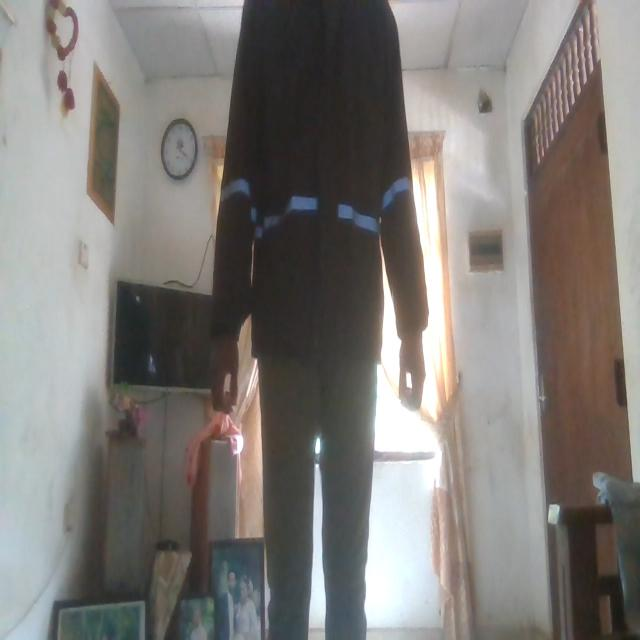Jacket_Wearer: (218, 0, 426, 386)
Person: (218, 0, 424, 640)
